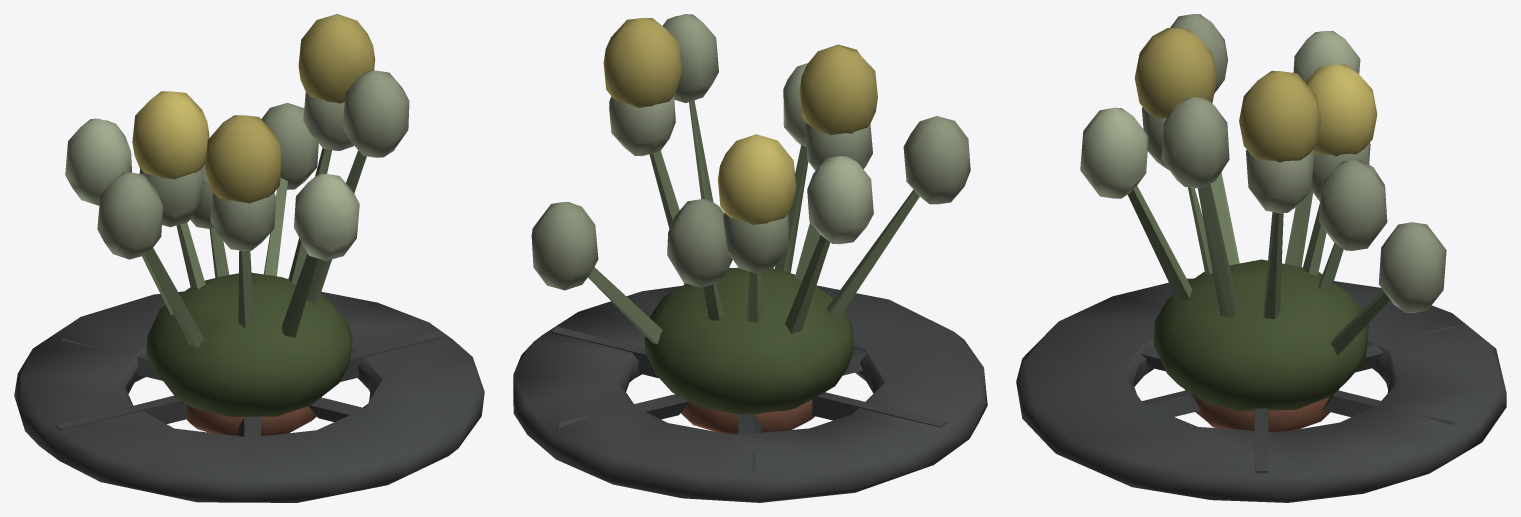
File: rabbitbrush_c_lod1.glb
3 views of the same model, side by side, from view 1: azimuth 30°, elevation 25°; view 2: azimuth 150°, elevation 25°; view 3: azimuth 270°, elevation 25° (orthographic). The views are drawn at different scales.
Parts seen in each view (by area): view 1: Surface.001; view 2: Surface.001; view 3: Surface.001.
Part boxes in pixels (x1=…): Surface.001: x1=14, y1=14, x2=484, y2=502; Surface.001: x1=513, y1=14, x2=987, y2=502; Surface.001: x1=1016, y1=14, x2=1506, y2=502.
Bounding box in the file's own units: 1.9 × 1.65 × 1.9.
